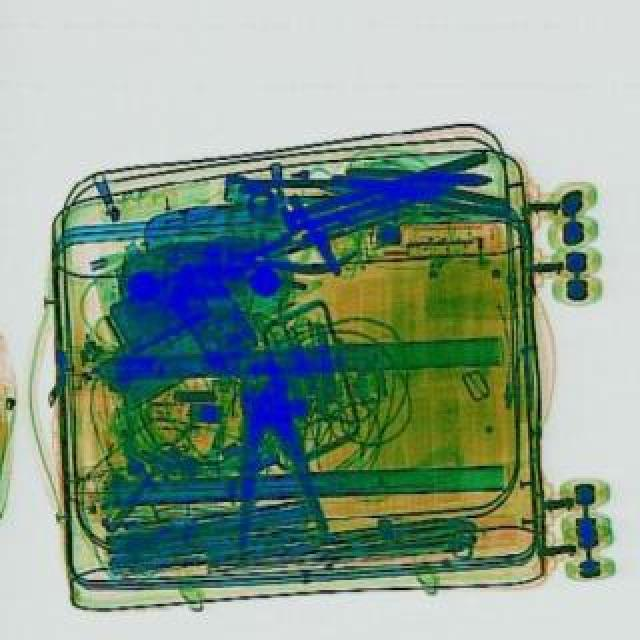wrench: (214, 360, 326, 554), (208, 210, 356, 294), (328, 154, 512, 218)
